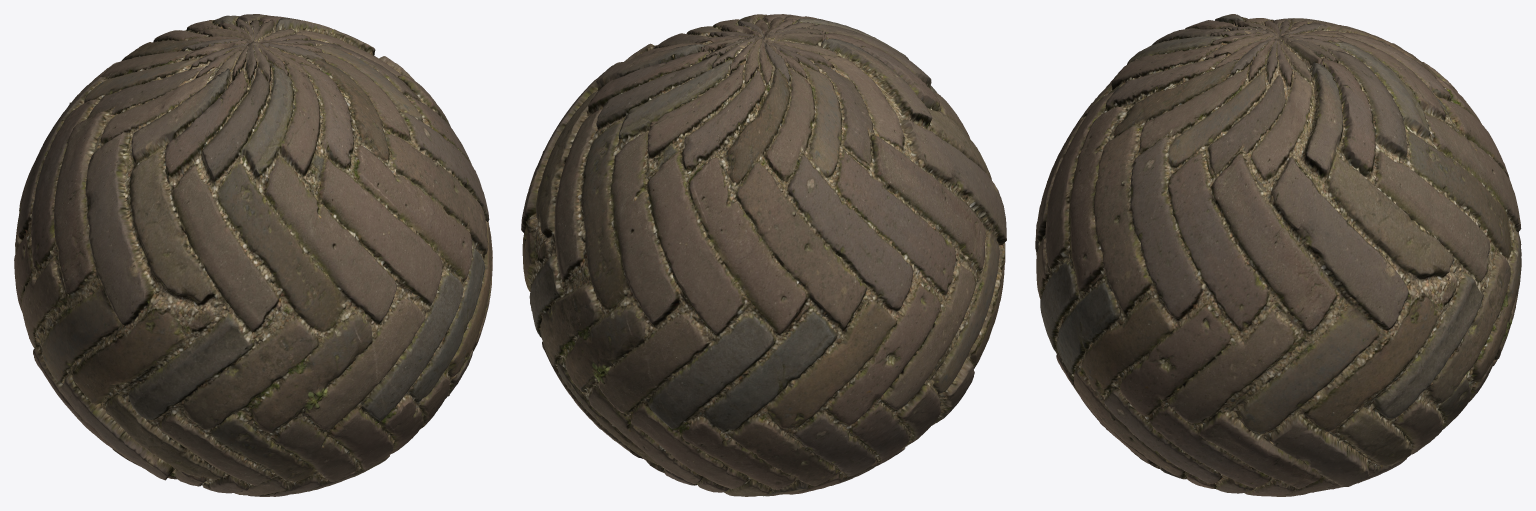
File: brick_floor_1k.gltf
The picture shows the model from 3 angles, left to right: view 1: azimuth 30°, elevation 25°; view 2: azimuth 150°, elevation 25°; view 3: azimuth 270°, elevation 25°; orthographic projection.
Visible parts, largest first — view 1: sphere_gltf; view 2: sphere_gltf; view 3: sphere_gltf.
Boxes of the visible parts, x1=… form: sphere_gltf: x1=14, y1=14, x2=492, y2=496; sphere_gltf: x1=521, y1=14, x2=1006, y2=496; sphere_gltf: x1=1035, y1=14, x2=1521, y2=496.
Bounding box in the file's own units: 0.5082 × 0.5205 × 0.5149.
1 material, 1 textured.
